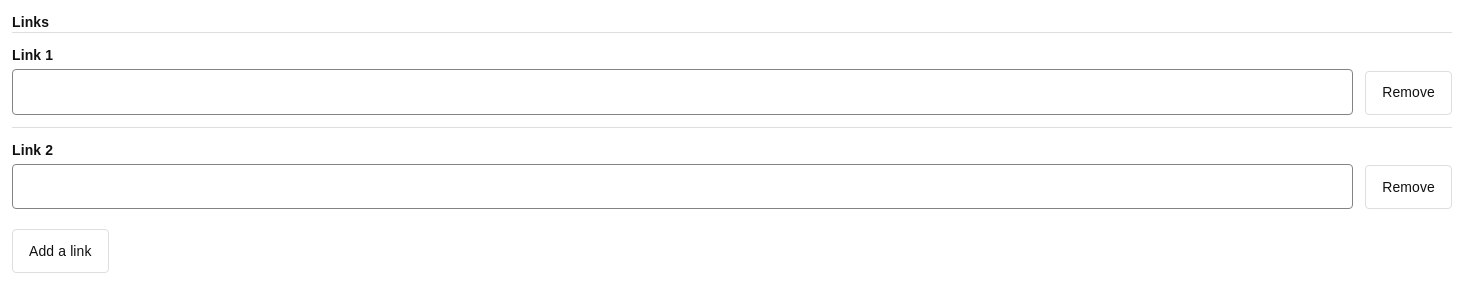
Repeater › removes a row and moves focus to the row before it
Click the button with aria-label "Remove link 2" at (1409, 187), box [1365,165,1452,209]
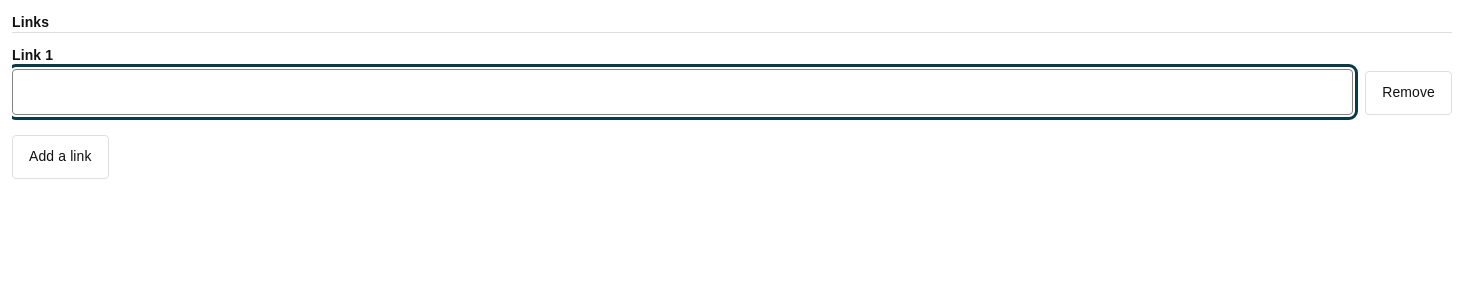
Expected: the number of list items is 1, [12,32,1452,126]
